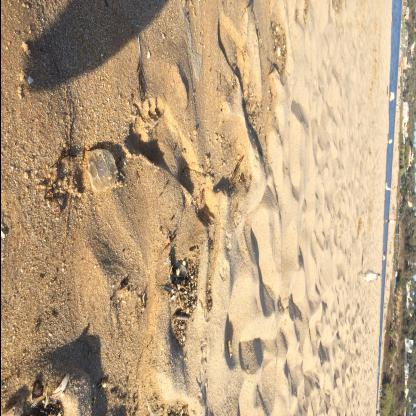plastik: (85, 148, 116, 192)
